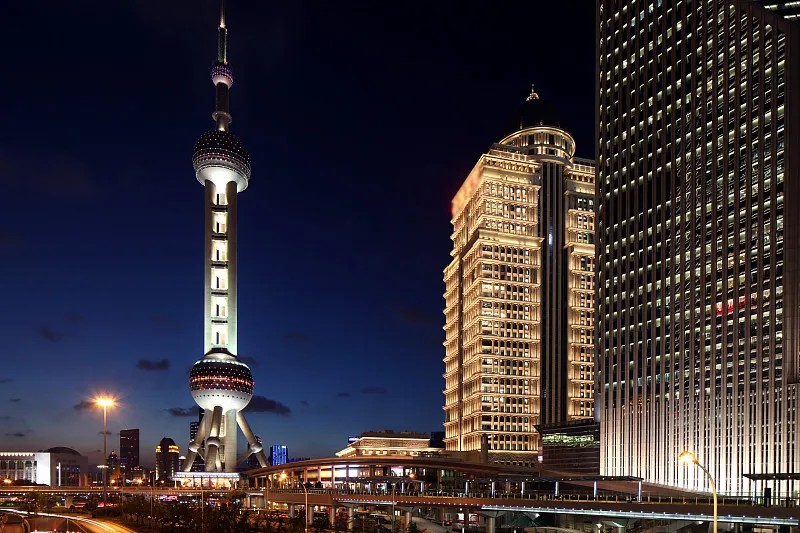Oriental: (183, 6, 273, 473)
